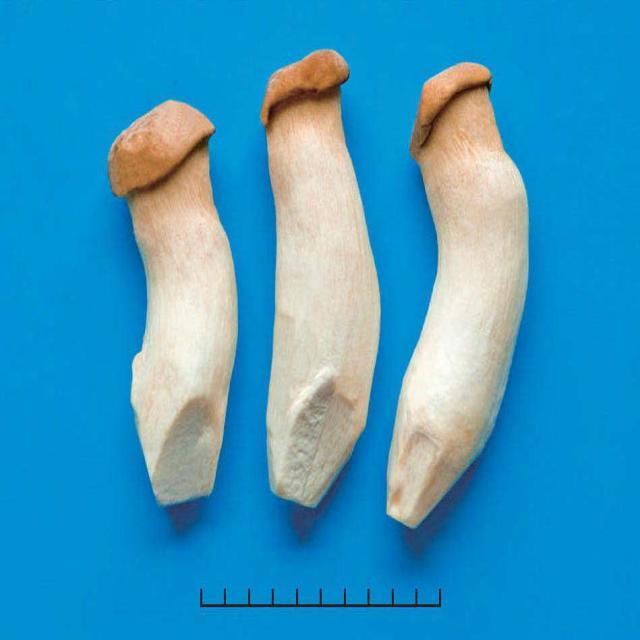Pleurotus eryngii: (388, 62, 528, 528), (262, 50, 382, 511), (107, 101, 237, 504)
